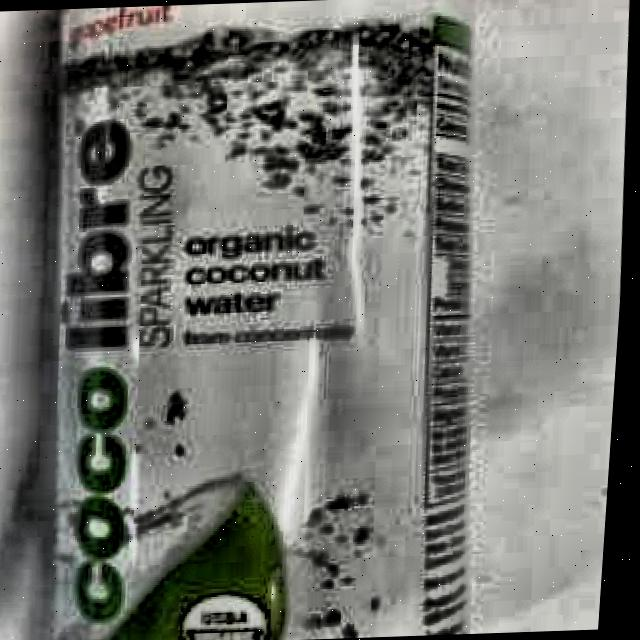metal: (9, 0, 503, 640)
